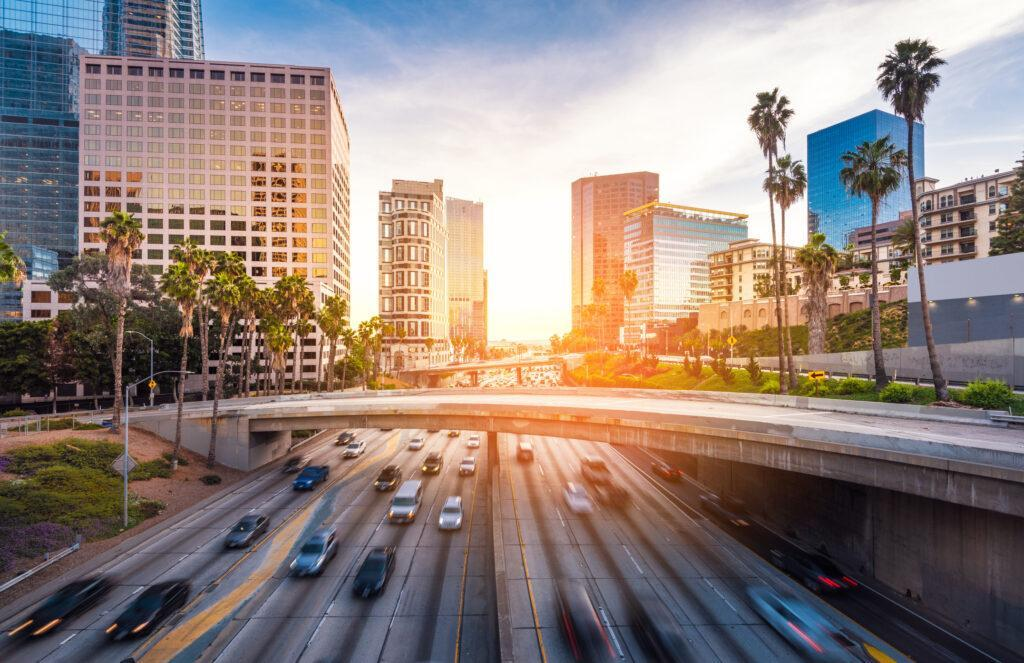car: (286, 526, 340, 587), (390, 480, 429, 532), (290, 461, 337, 497), (438, 494, 465, 540), (420, 451, 447, 478), (457, 454, 481, 481)
shadow: (748, 588, 848, 663), (24, 576, 103, 659), (104, 578, 192, 644), (550, 578, 610, 660), (622, 594, 689, 663)
